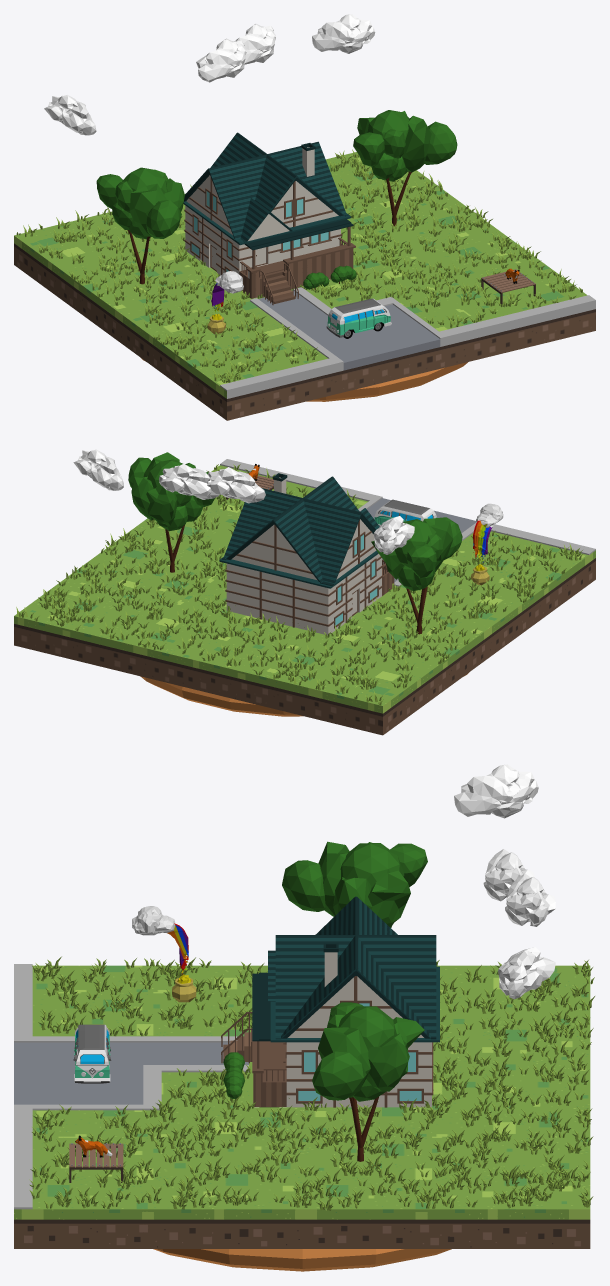
3 views of the same model, one above another, from view 1: azimuth 30°, elevation 25°; view 2: azimuth 150°, elevation 25°; view 3: azimuth 270°, elevation 25° (orthographic). The views are drawn at different scales.
Visible parts, largest first — view 1: Cube.006, Cube.793, Circle.012_Grass_0.192, Cube.007, tree, tree.001, VEHICLES_VAN, UNDERGROUND_PIZZA, OBJRANDOM_RAINBOW, Cube.009; view 2: Cube.006, Cube.793, Circle.012_Grass_0.192, Cube.007, tree.001, tree, UNDERGROUND_PIZZA, OBJRANDOM_RAINBOW, VEHICLES_VAN; view 3: Cube.006, Circle.012_Grass_0.192, Cube.793, tree, Cube.007, tree.001, UNDERGROUND_PIZZA, VEHICLES_VAN, OBJRANDOM_RAINBOW, Cube.009.
Part boxes in pixels (x1,y1,x2,y2): Cube.006: [14, 152, 595, 420]; Cube.793: [183, 132, 355, 305]; Circle.012_Grass_0.192: [16, 149, 582, 382]; Cube.007: [44, 14, 375, 135]; tree: [353, 110, 457, 226]; tree.001: [96, 167, 184, 284]; VEHICLES_VAN: [326, 298, 391, 338]; UNDERGROUND_PIZZA: [141, 358, 467, 401]; OBJRANDOM_RAINBOW: [207, 271, 243, 334]; Cube.009: [481, 269, 535, 304]; Cube.006: [14, 459, 595, 735]; Cube.793: [219, 473, 394, 635]; Circle.012_Grass_0.192: [16, 464, 582, 705]; Cube.007: [73, 449, 414, 554]; tree.001: [371, 517, 462, 634]; tree: [128, 452, 214, 572]; UNDERGROUND_PIZZA: [140, 673, 468, 716]; OBJRANDOM_RAINBOW: [471, 503, 503, 585]; VEHICLES_VAN: [374, 499, 436, 526]; Cube.006: [14, 964, 590, 1248]; Circle.012_Grass_0.192: [29, 956, 594, 1210]; Cube.793: [221, 896, 439, 1107]; tree: [312, 1002, 424, 1161]; Cube.007: [454, 764, 555, 999]; tree.001: [282, 841, 427, 927]; UNDERGROUND_PIZZA: [153, 1249, 451, 1271]; VEHICLES_VAN: [73, 1024, 111, 1083]; OBJRANDOM_RAINBOW: [132, 906, 196, 1002]; Cube.009: [69, 1143, 123, 1182].
Size of the model in its own units: 4071 by 2387 by 4040.
Materials: 40 (4 with a texture image).
